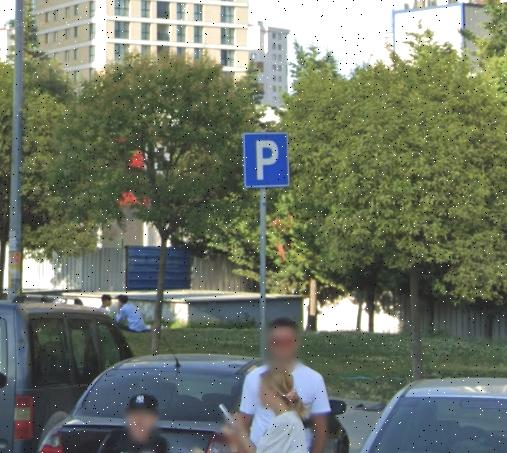park: (239, 130, 293, 189)
